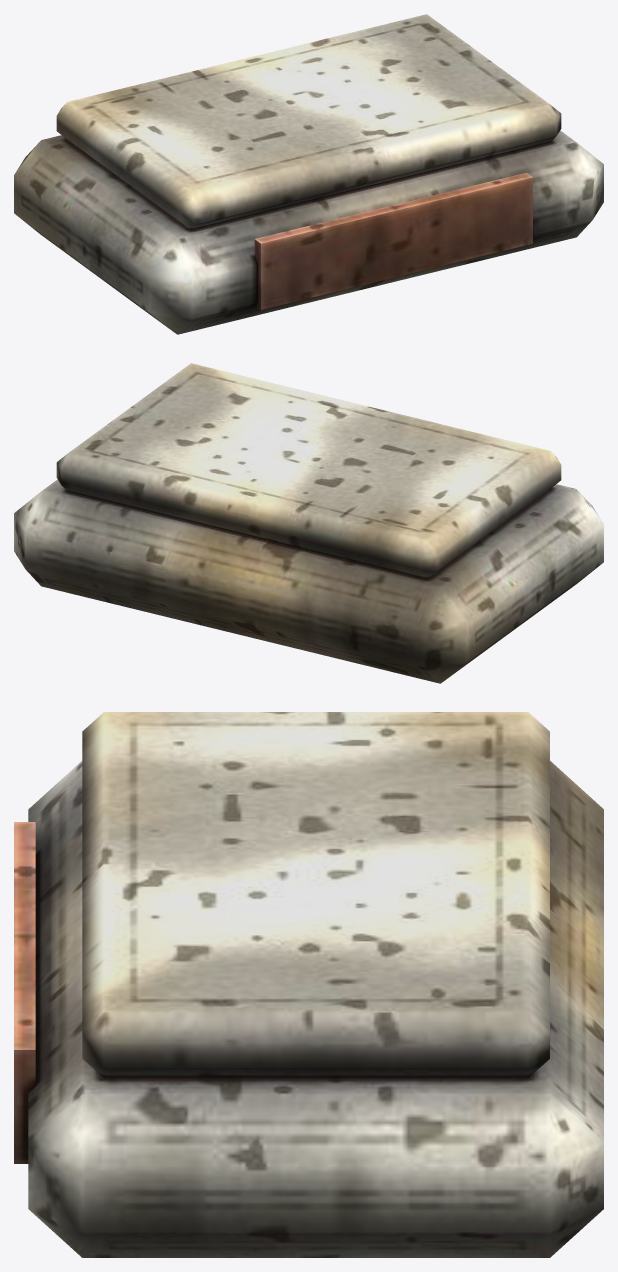
Rendered from saco_cimento.glb.
3 views of the same model, one above another, from view 1: azimuth 30°, elevation 25°; view 2: azimuth 150°, elevation 25°; view 3: azimuth 270°, elevation 25° (orthographic). The views are drawn at different scales.
Parts seen in each view (by area): view 1: saco_cimento; view 2: saco_cimento; view 3: saco_cimento.
Part boxes in pixels (x1,y1,x2,y2): saco_cimento: (14,14,603,334); saco_cimento: (14,363,603,683); saco_cimento: (14,712,603,1257).
Size of the model in its own units: 0.5 by 0.14 by 0.328.
1 material, 1 textured.
